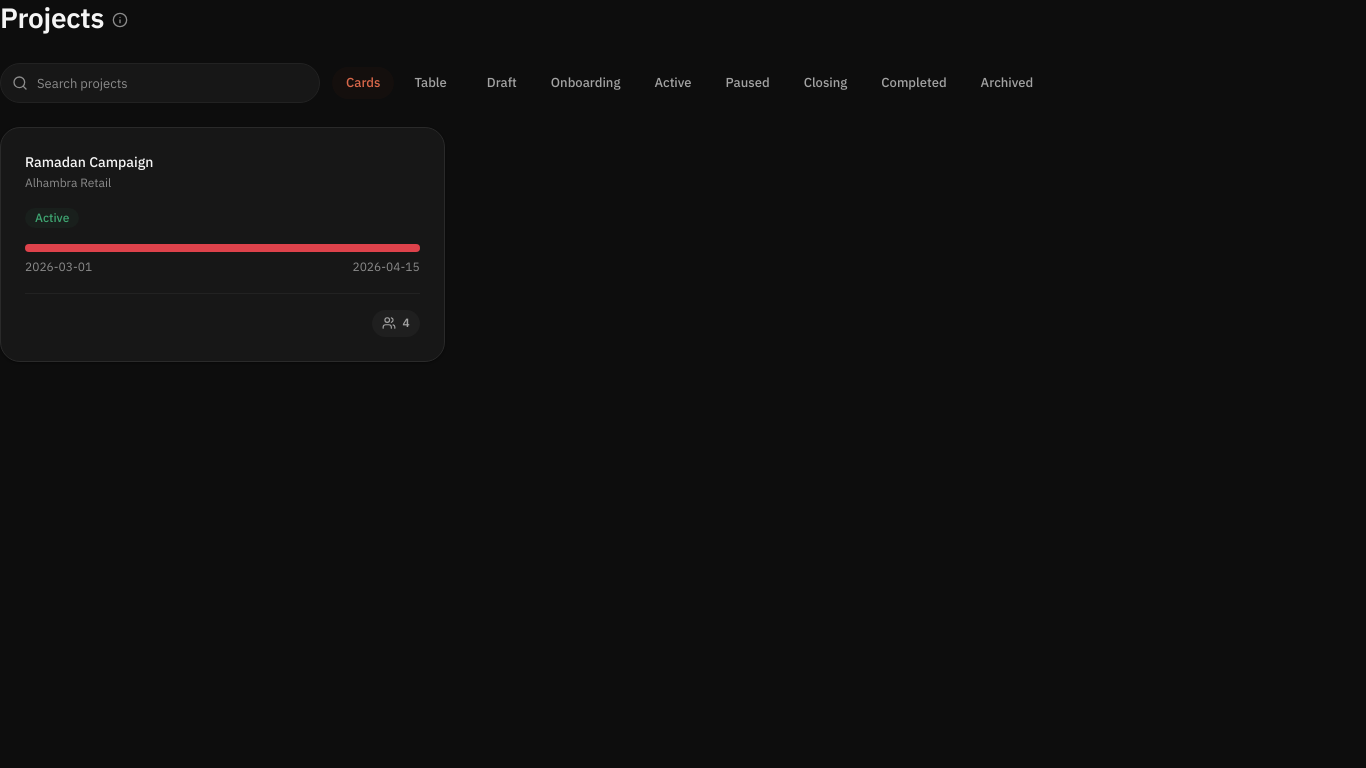
Scenario: who can see a project › shows the list read-only to somebody who may not manage members
This screenshot has width=1366, height=768.
Click the button named "Manage access": (396, 323) top-left (372, 310), bottom-right (420, 337)
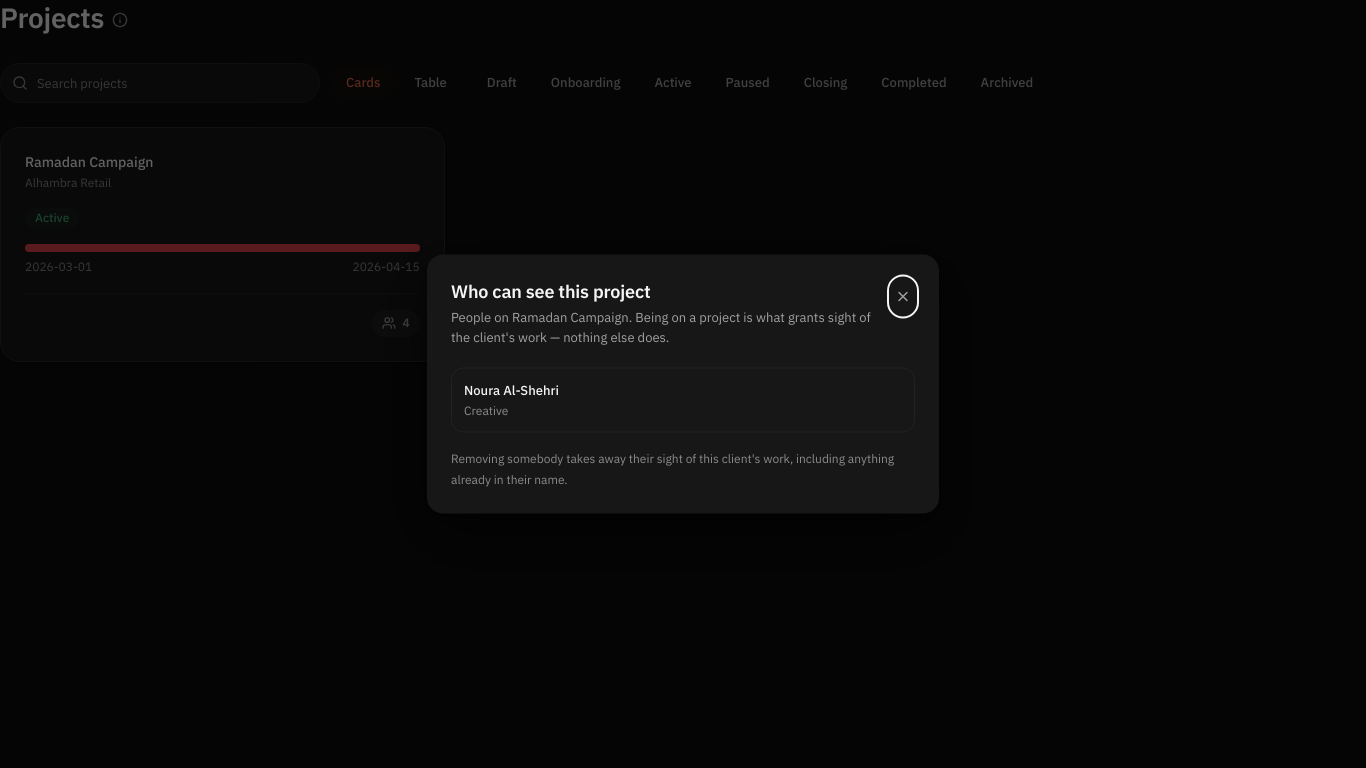
Now the text "Noura Al-Shehri" is shown, box top-left (464, 381), bottom-right (559, 401)
